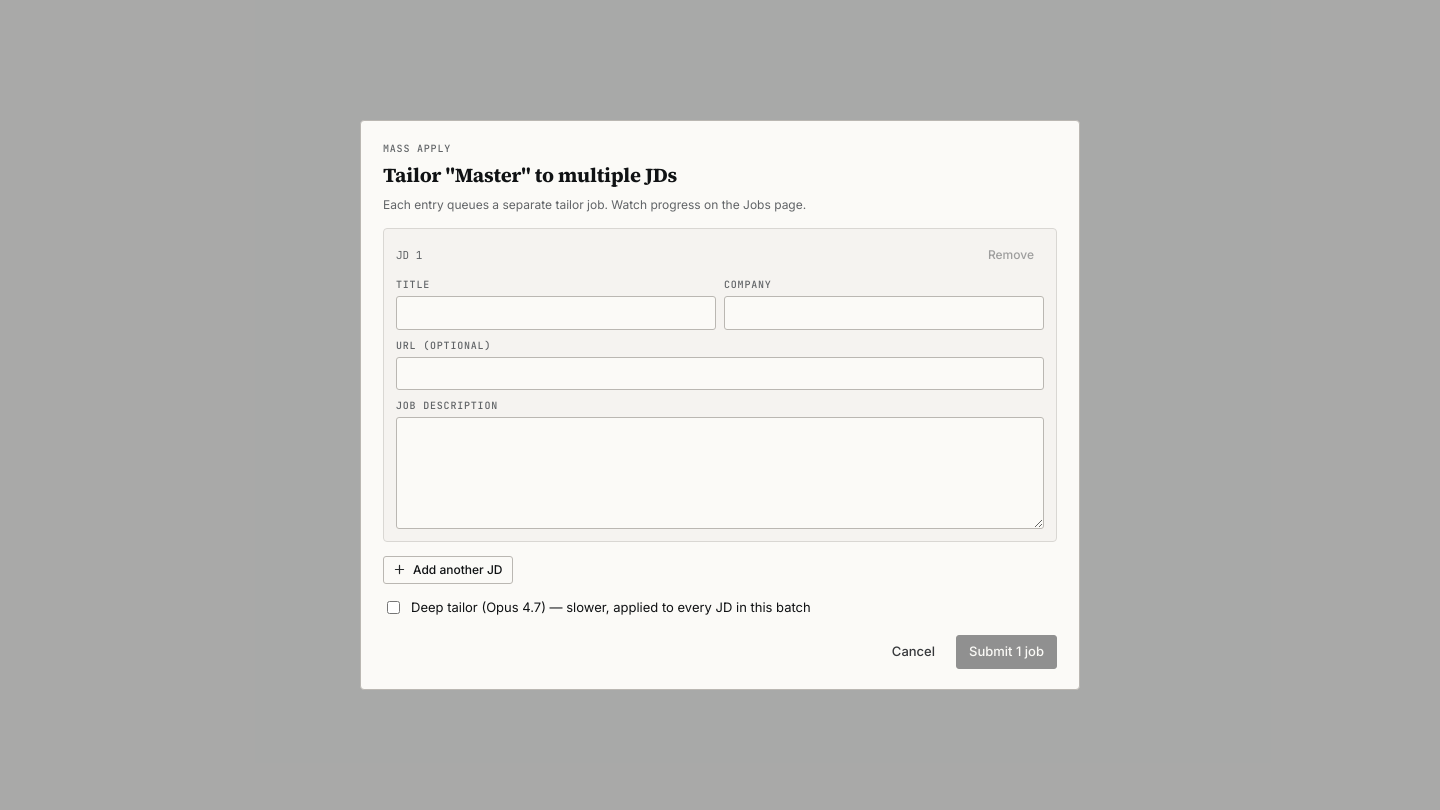
Test: error from enqueueTailorBatch surfaces inline
Step 1. Type "SWE" into the field labelled "Title" → {"x": 556, "y": 313}, box [396,296,716,330]
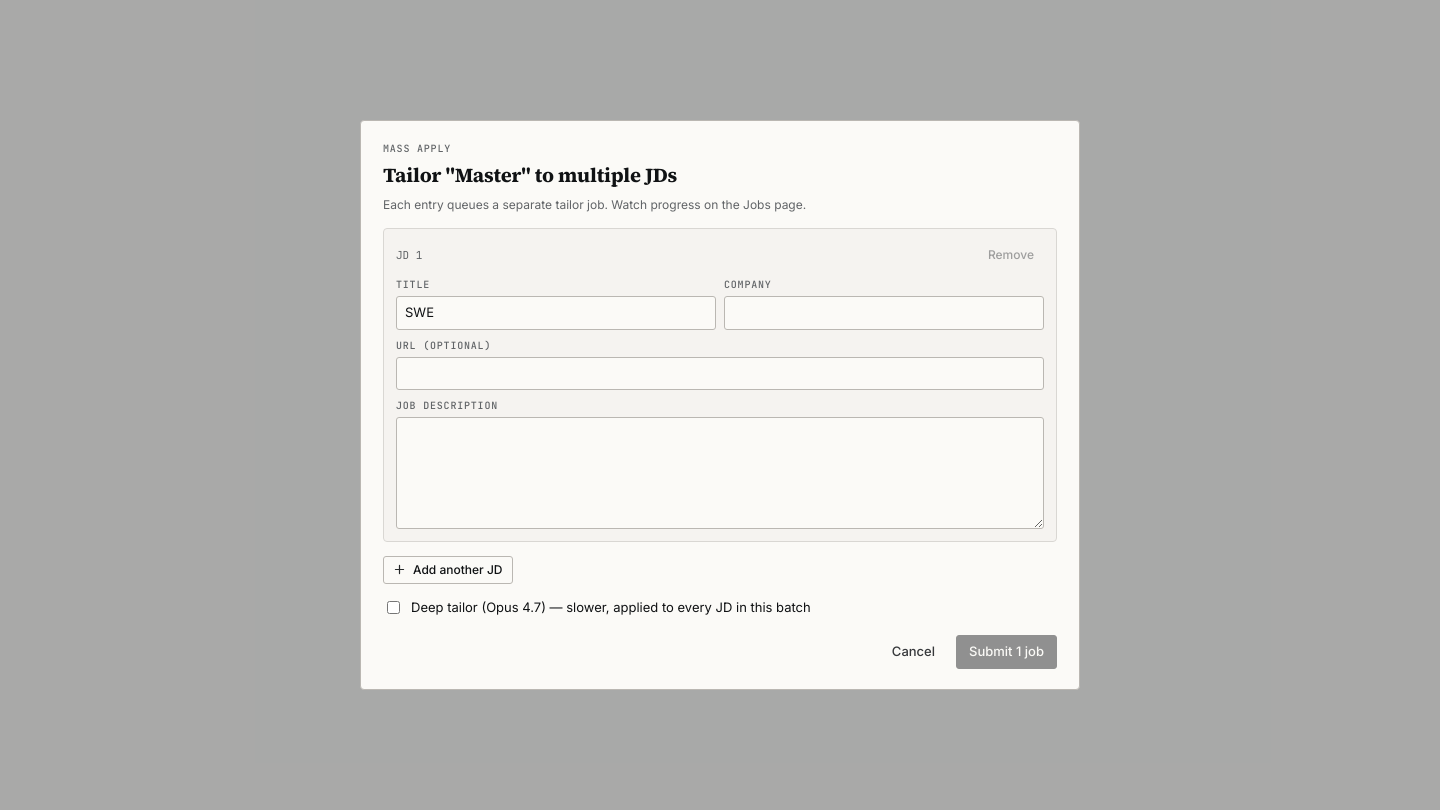
Step 2. Type "Acme" into the field labelled "Company" → {"x": 884, "y": 313}, box [724,296,1044,330]
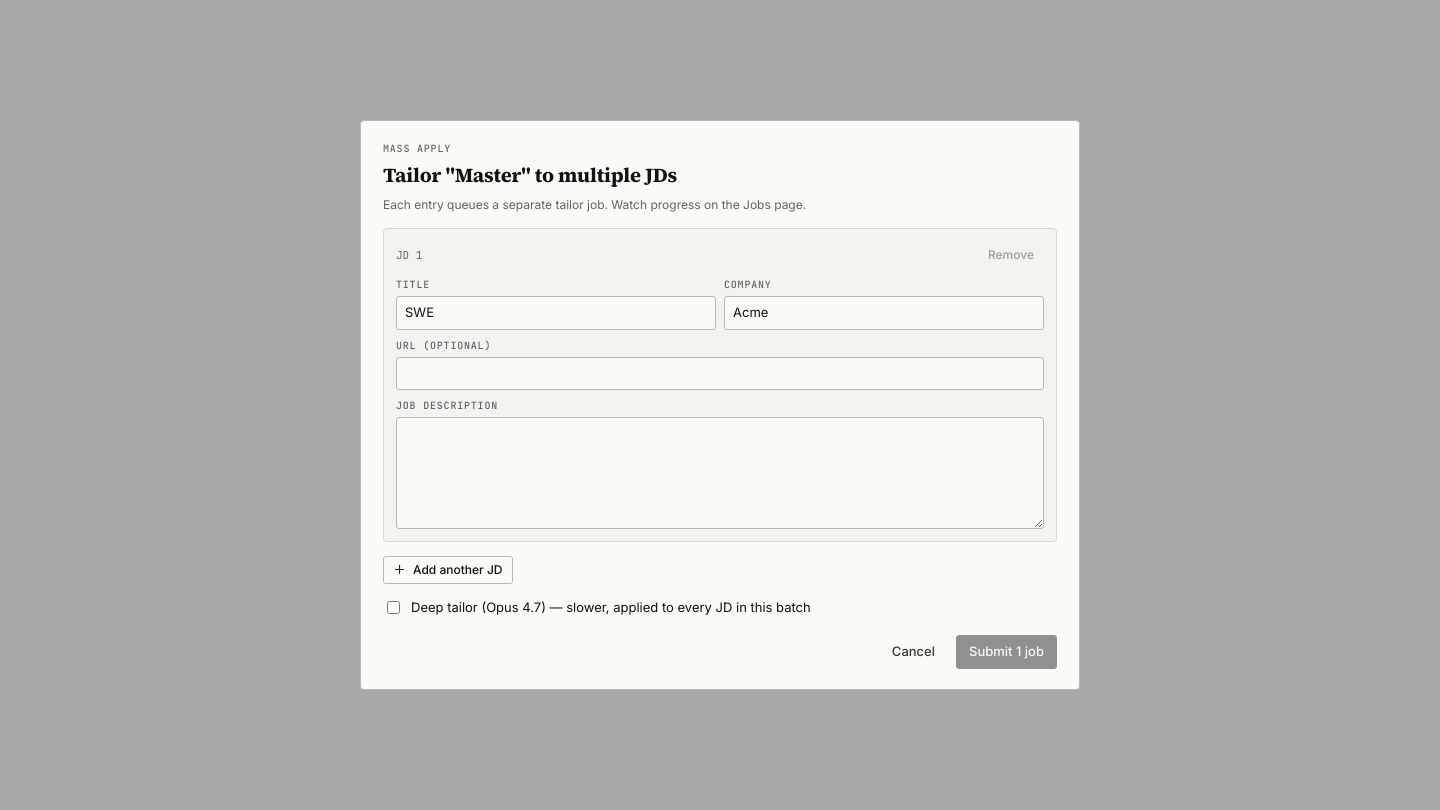
Step 3. Type "JD body" into the text box labelled "Job description" → {"x": 720, "y": 473}, box [396,417,1044,529]
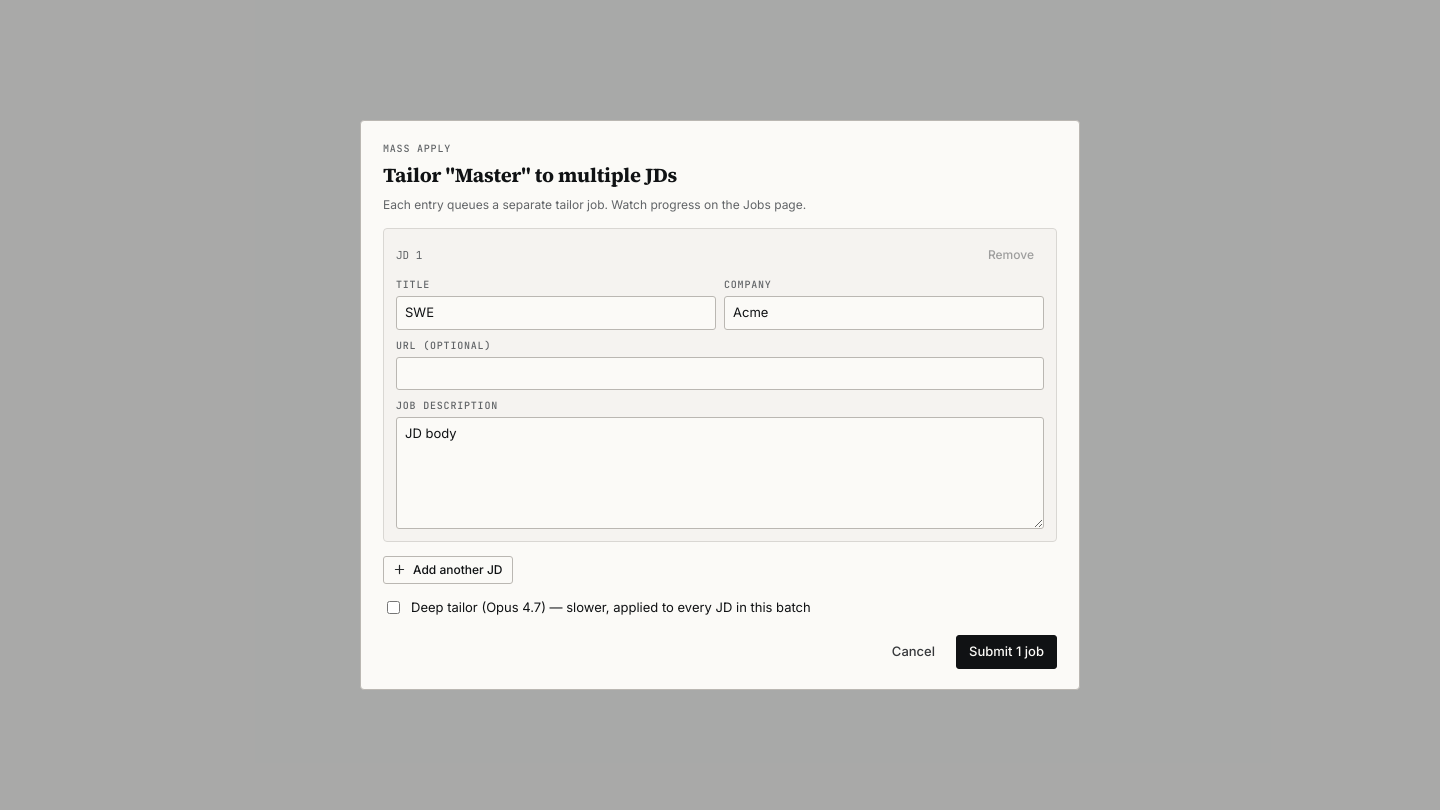
Step 4. Click the button "Submit 1 job" → {"x": 1006, "y": 652}, box [956,635,1057,669]
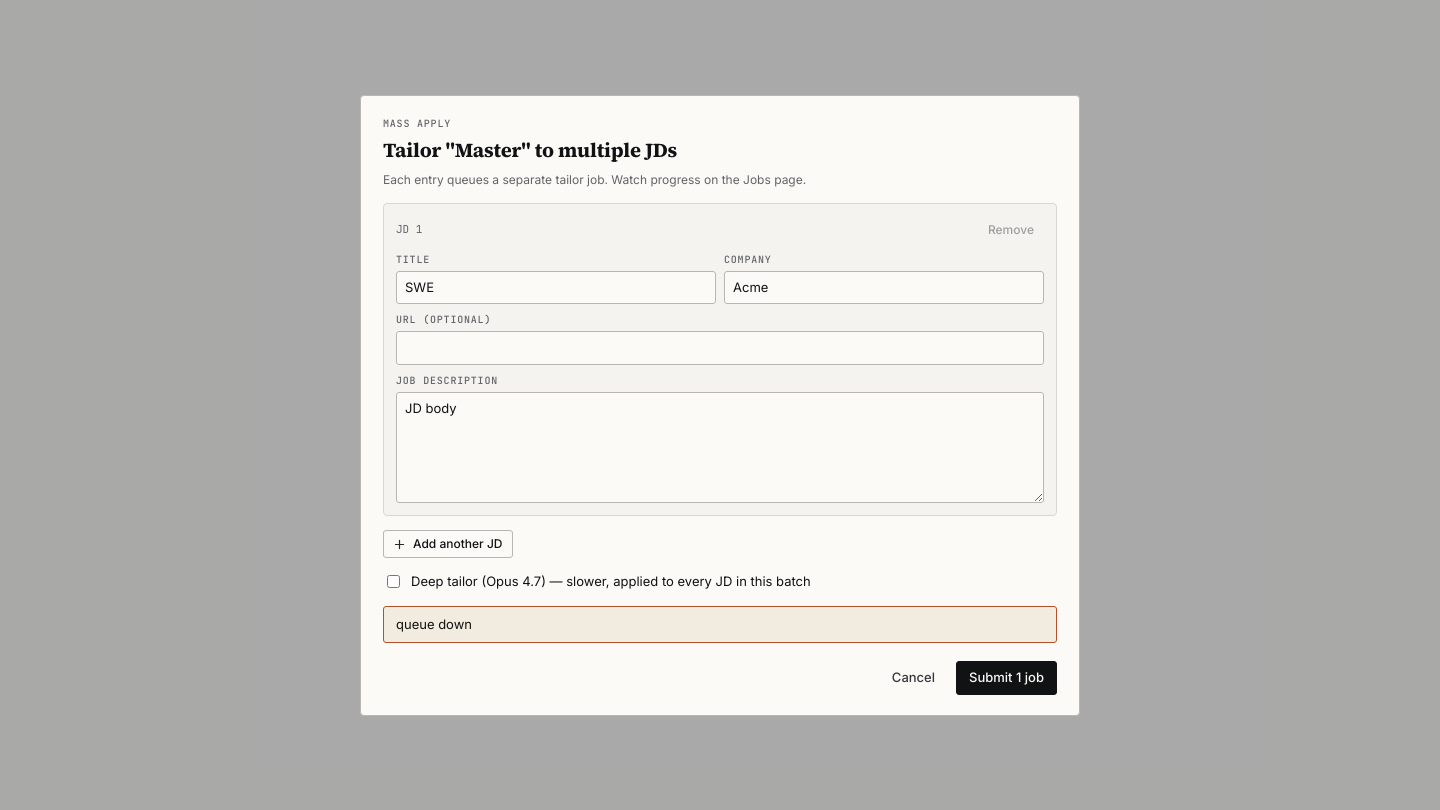
Expected: the message reads "queue down", [396,616,472,632]
